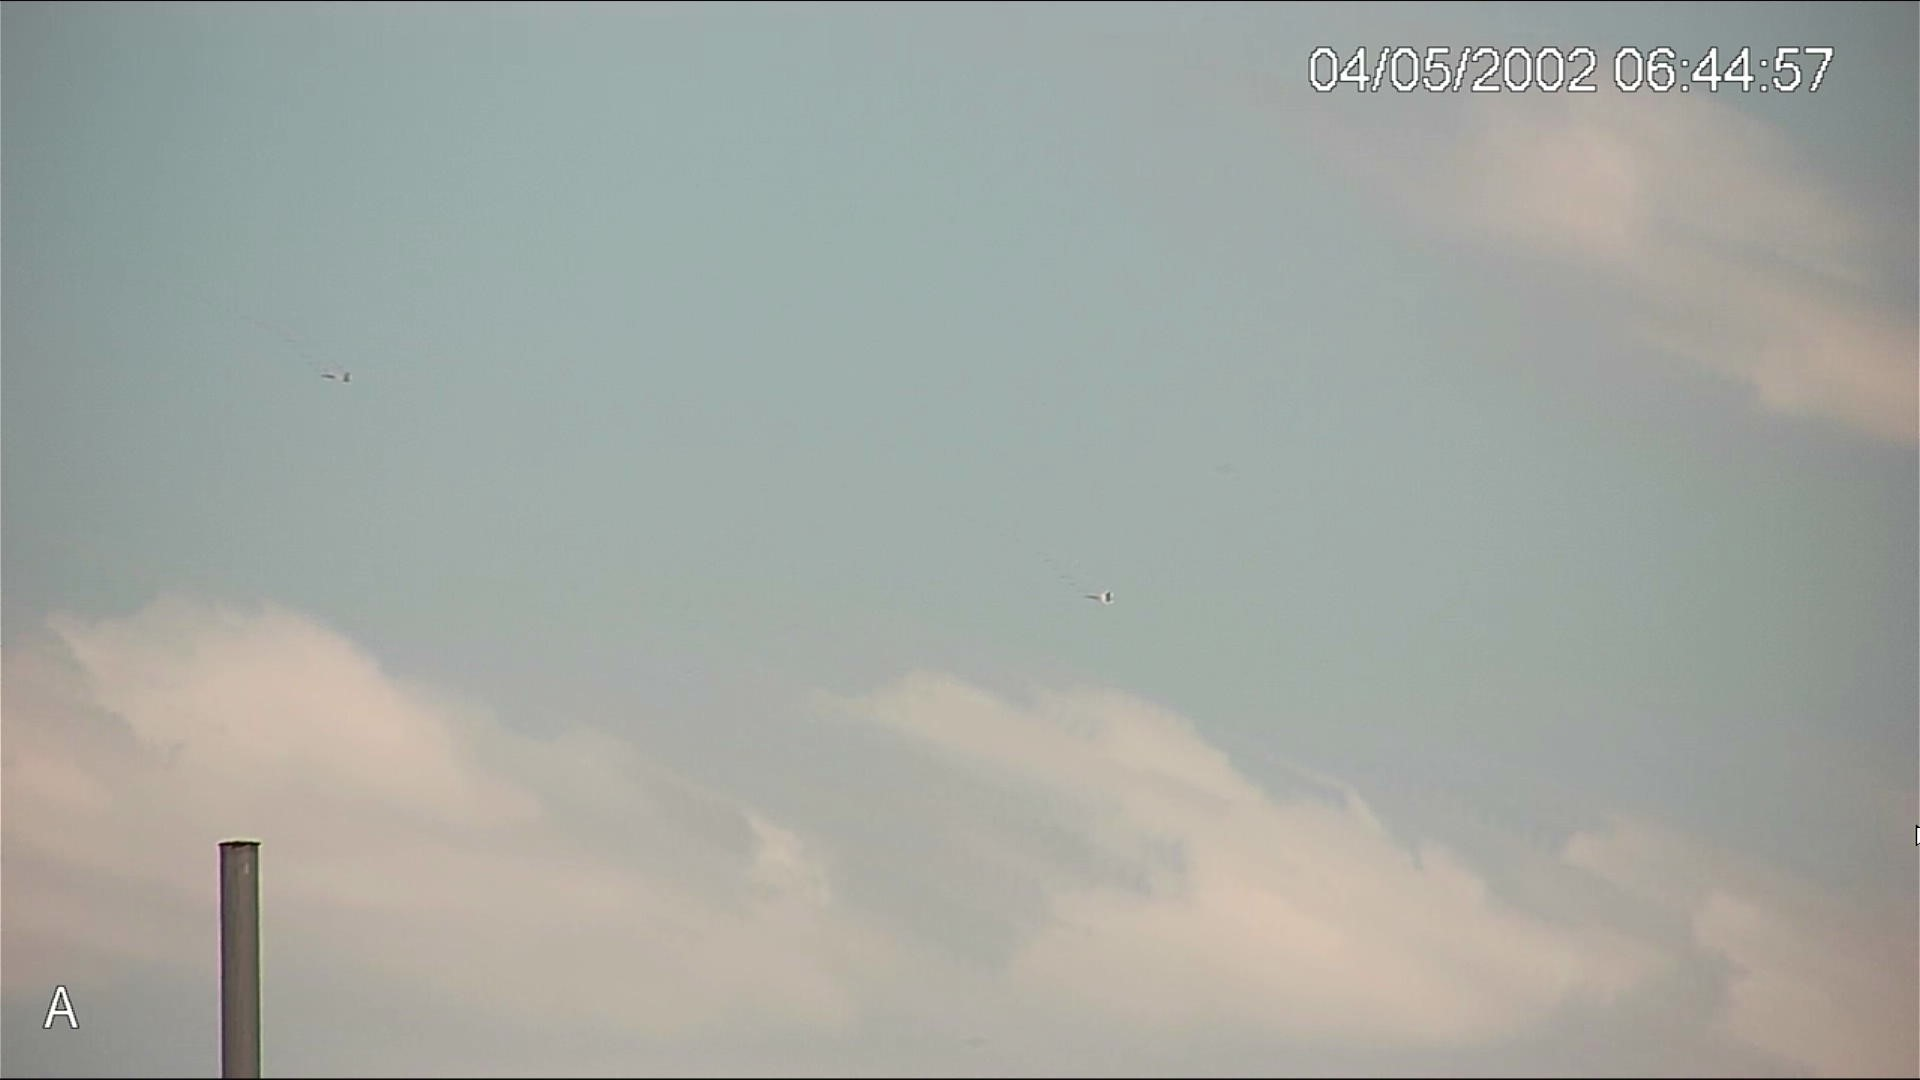SU_30: (318, 367, 356, 386), (1081, 589, 1116, 604)
